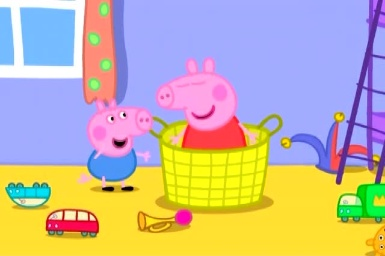Peppa: (155, 57, 248, 150)
